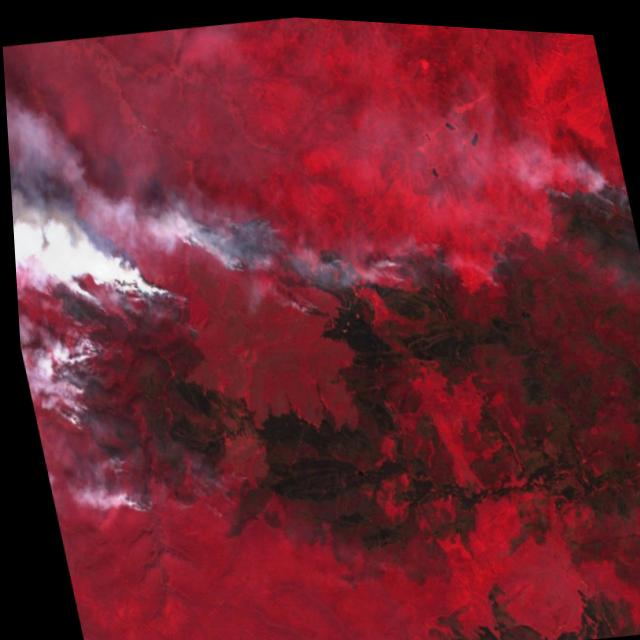fire: (5, 114, 640, 557)
